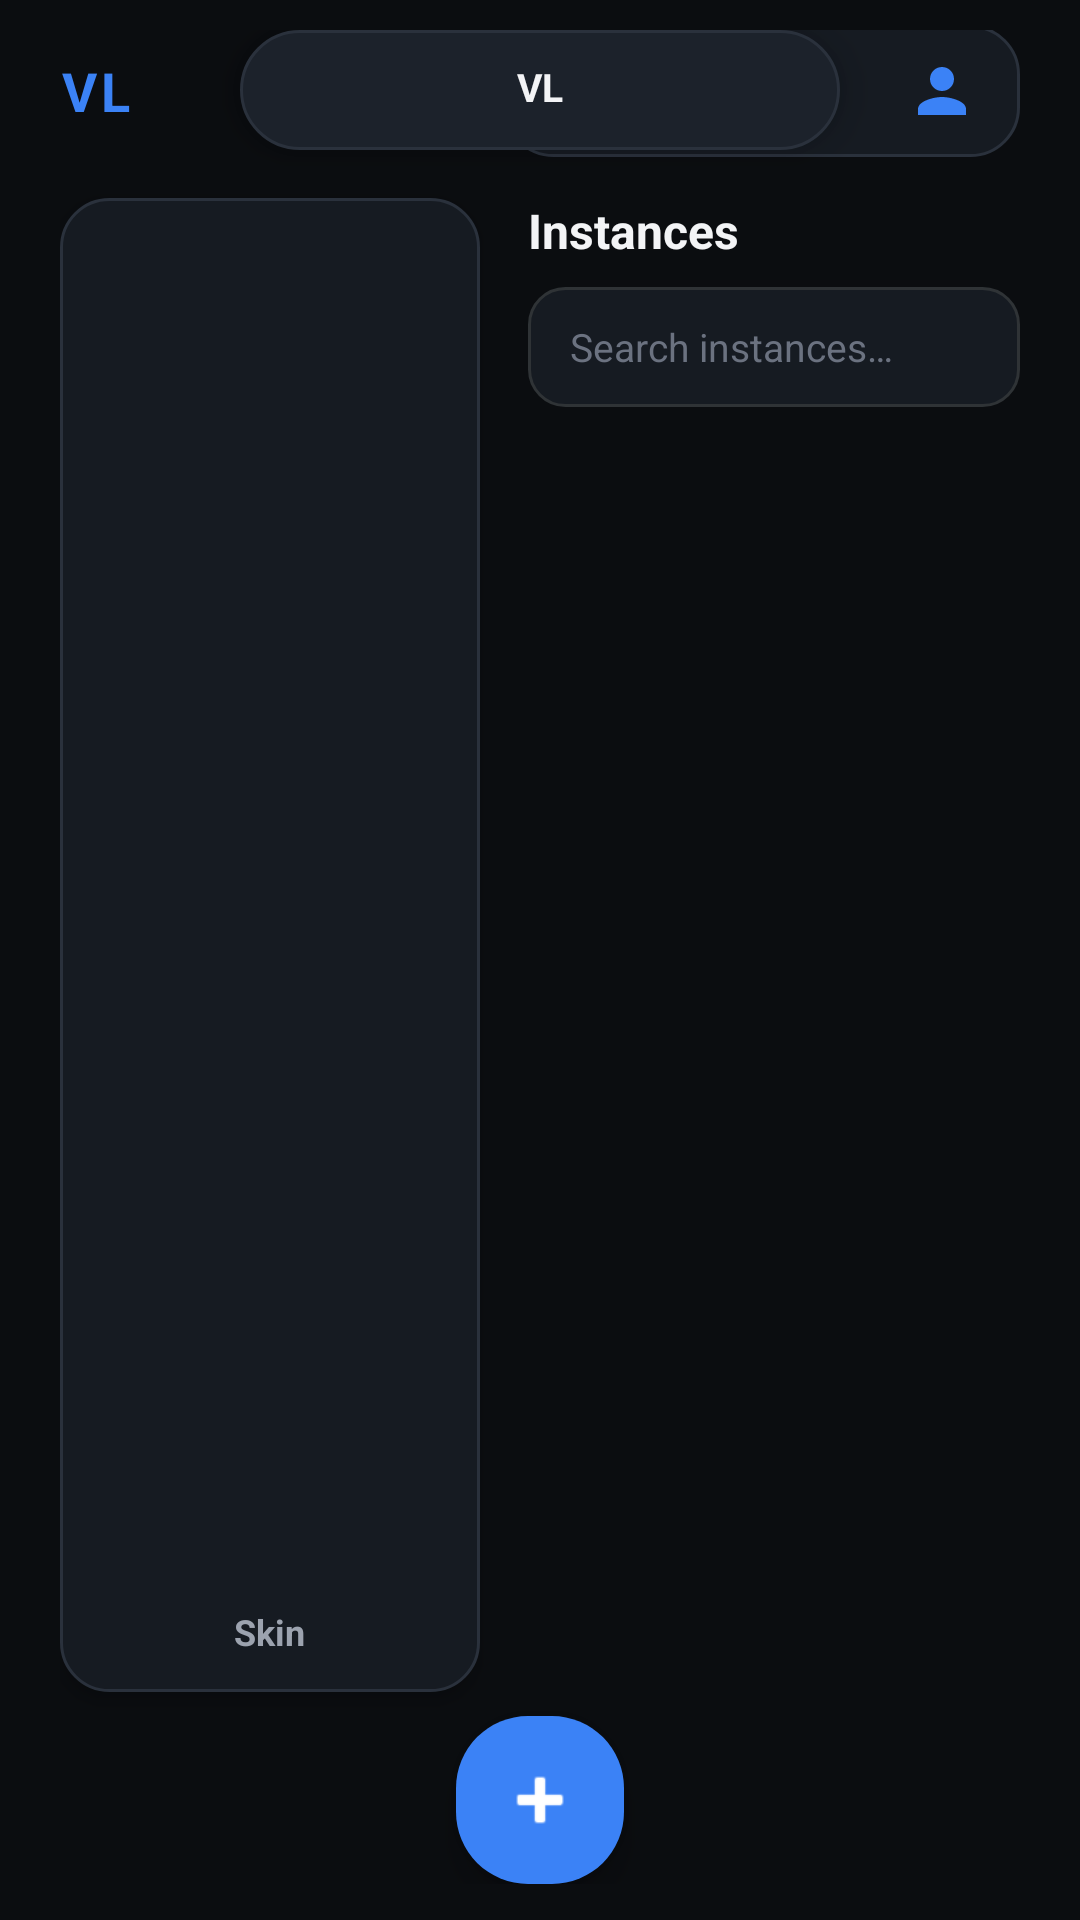

Screen size 1080×1920. Icon name, then its box in pixels as (x1, y1, x2, y2):
Account: (918, 67, 966, 115)
Add instance: (456, 1716, 624, 1884)
